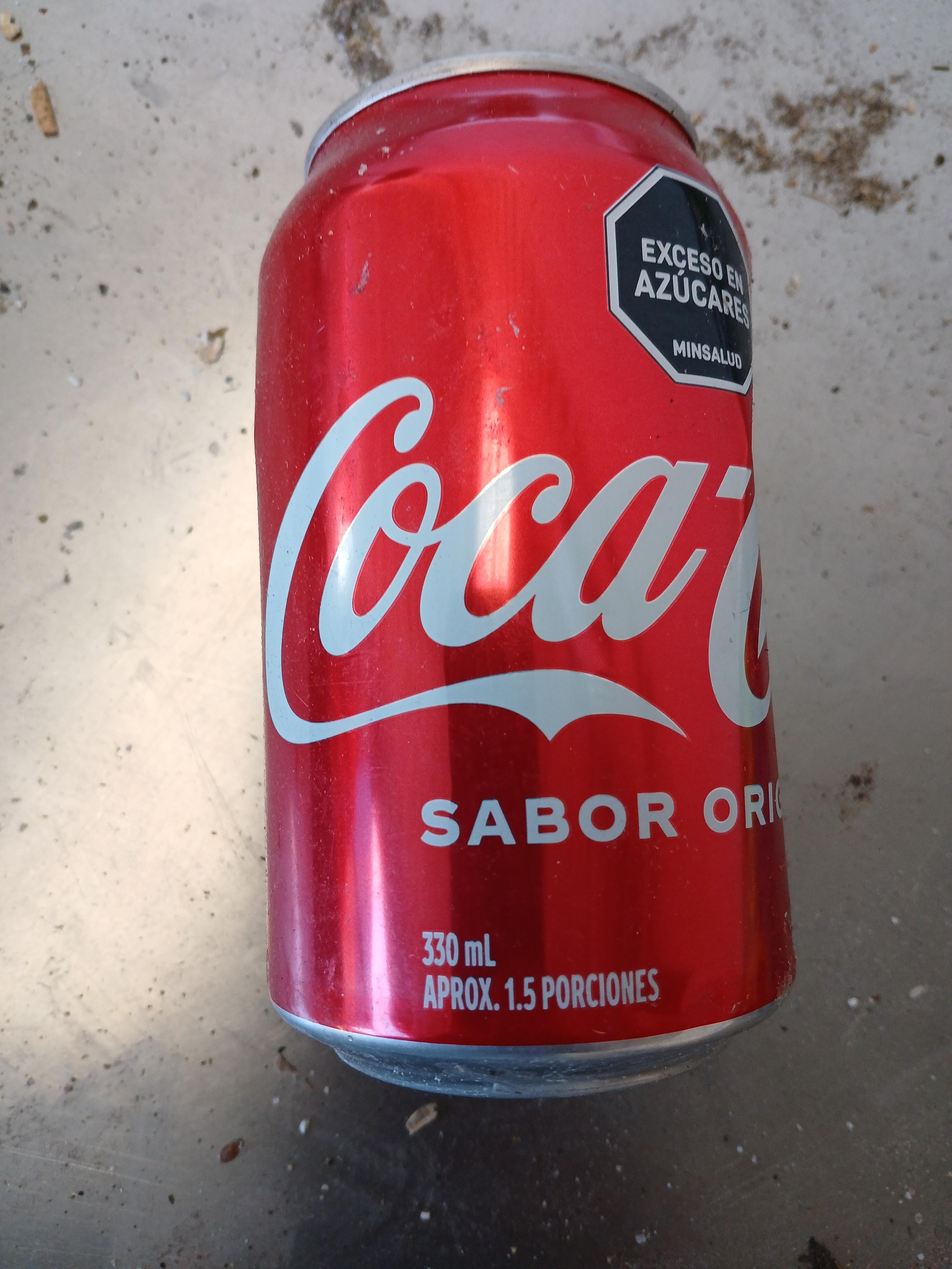Metal: (267, 53, 793, 1088)
